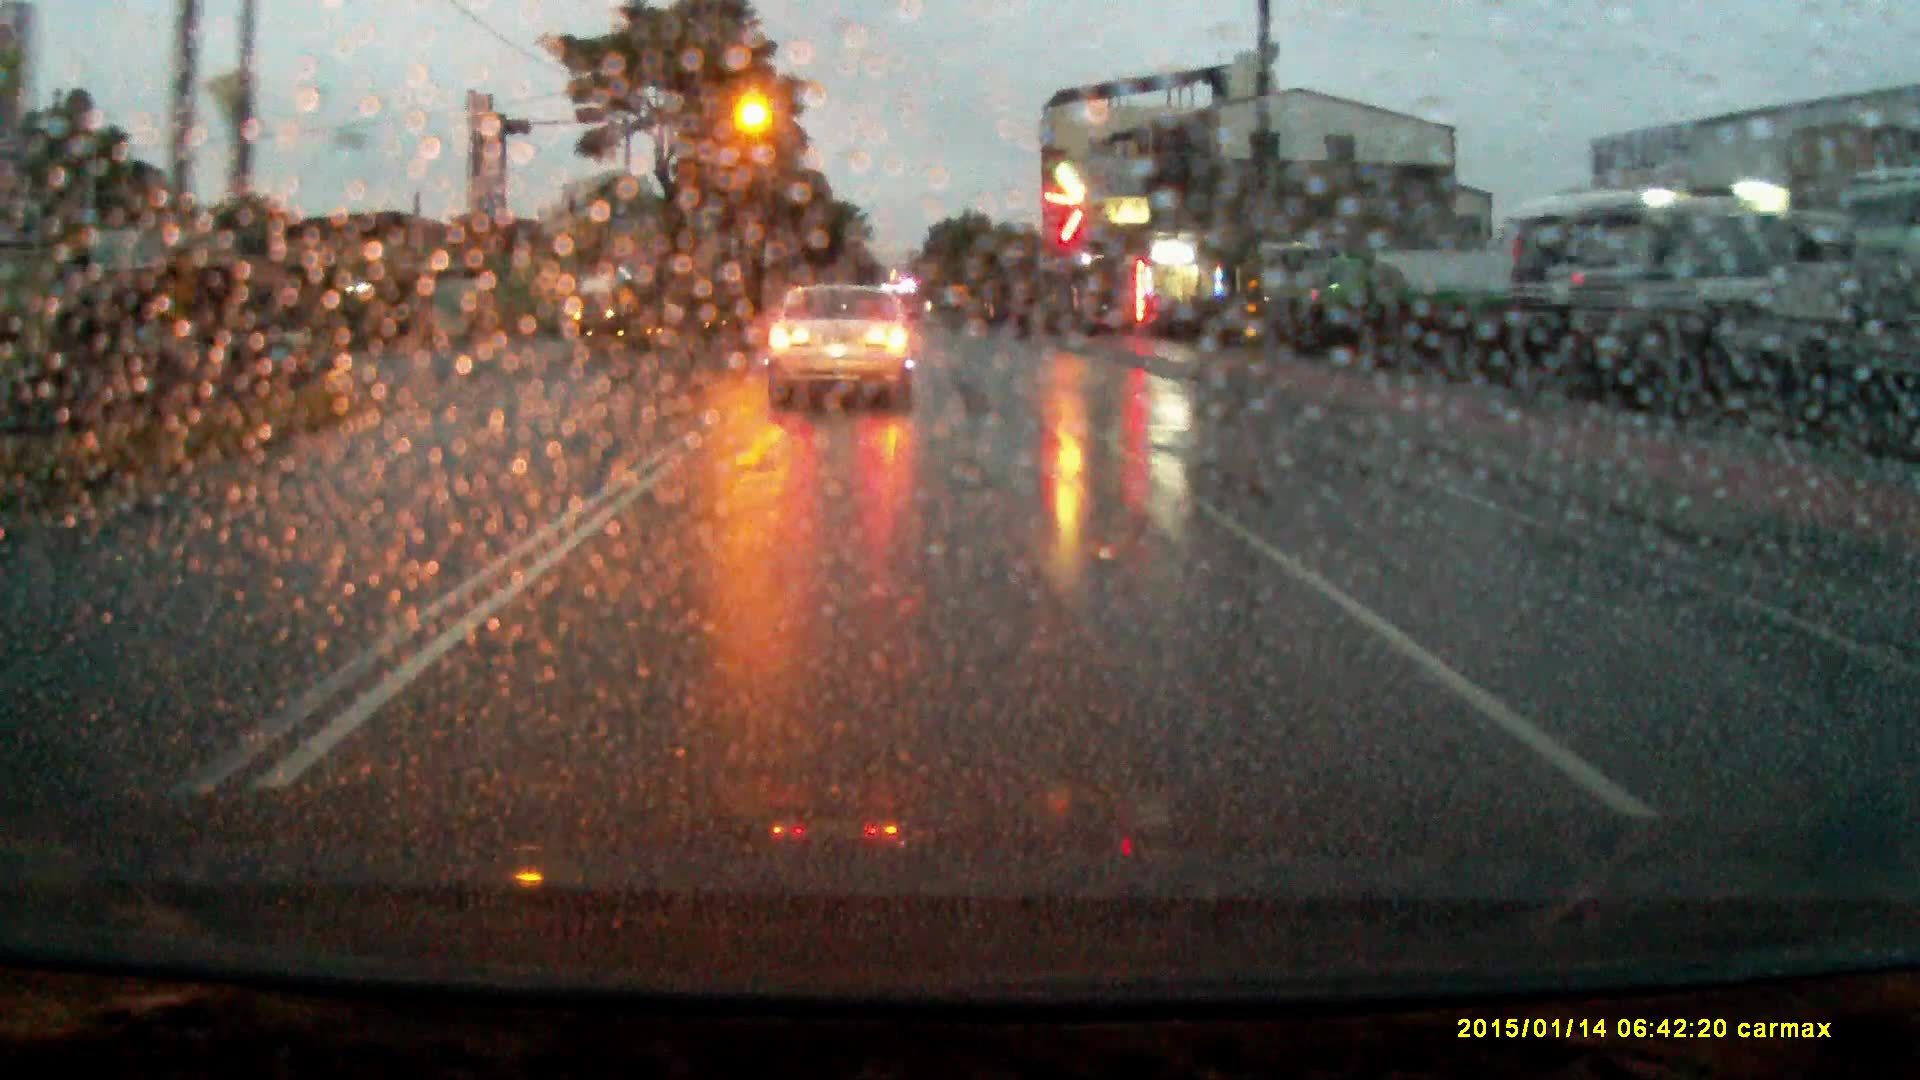vehicle: (1691, 212, 1857, 423), (1509, 191, 1655, 382), (767, 284, 920, 413), (1309, 251, 1501, 340), (1251, 241, 1335, 336), (572, 277, 630, 331)
